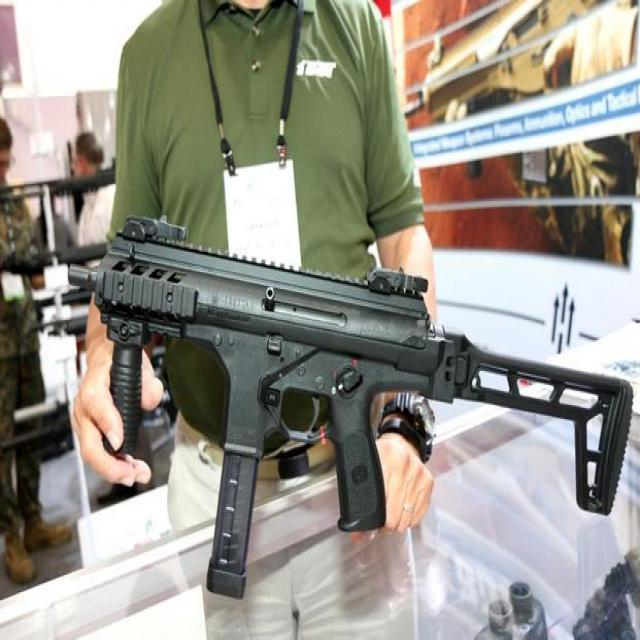smg: (66, 210, 640, 610)
